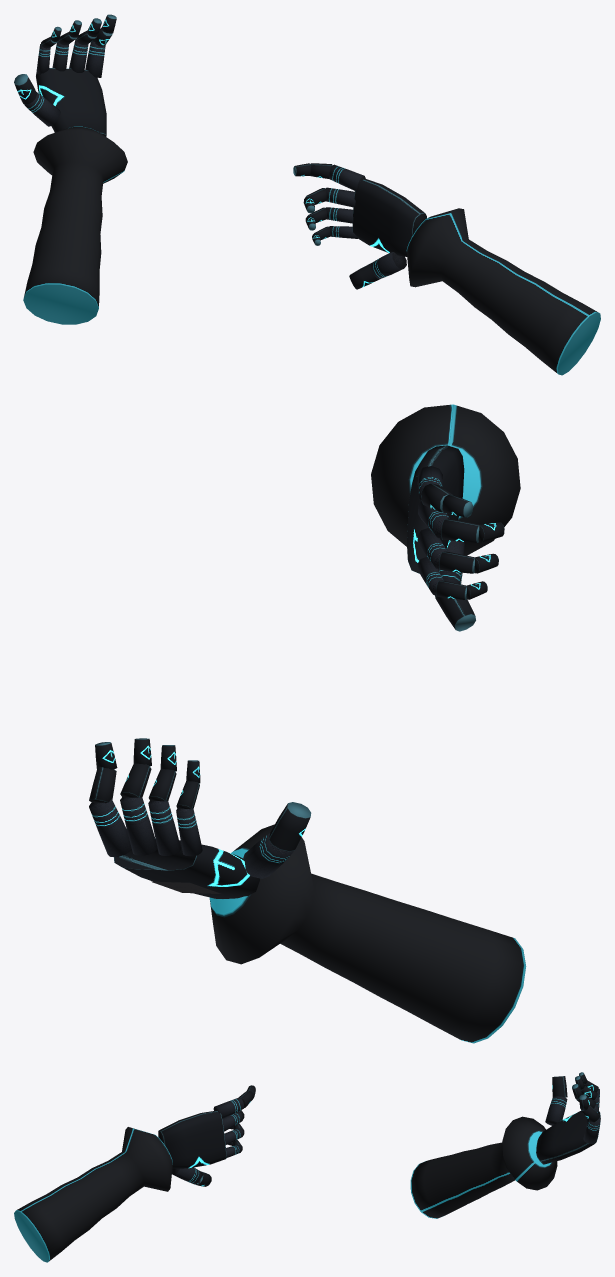
Rendered from arms_em68a.glb.
3 views of the same model, one above another, from view 1: azimuth 30°, elevation 25°; view 2: azimuth 150°, elevation 25°; view 3: azimuth 270°, elevation 25° (orthographic). The views are drawn at different scales.
Parts seen in each view (by area): view 1: em68a_arm_right, em68a_arm_left; view 2: em68a_arm_left, em68a_arm_right; view 3: em68a_arm_right, em68a_arm_left.
Part boxes in pixels (x1,y1,x2,y2): em68a_arm_right: (293,163,600,375); em68a_arm_left: (14,14,127,324); em68a_arm_left: (89,738,526,1043); em68a_arm_right: (371,404,520,631); em68a_arm_right: (14,1085,255,1262); em68a_arm_left: (410,1072,600,1218).
Size of the model in its own units: 0.4714 by 0.3016 by 0.9028.
Materials: 1 (1 with a texture image).
